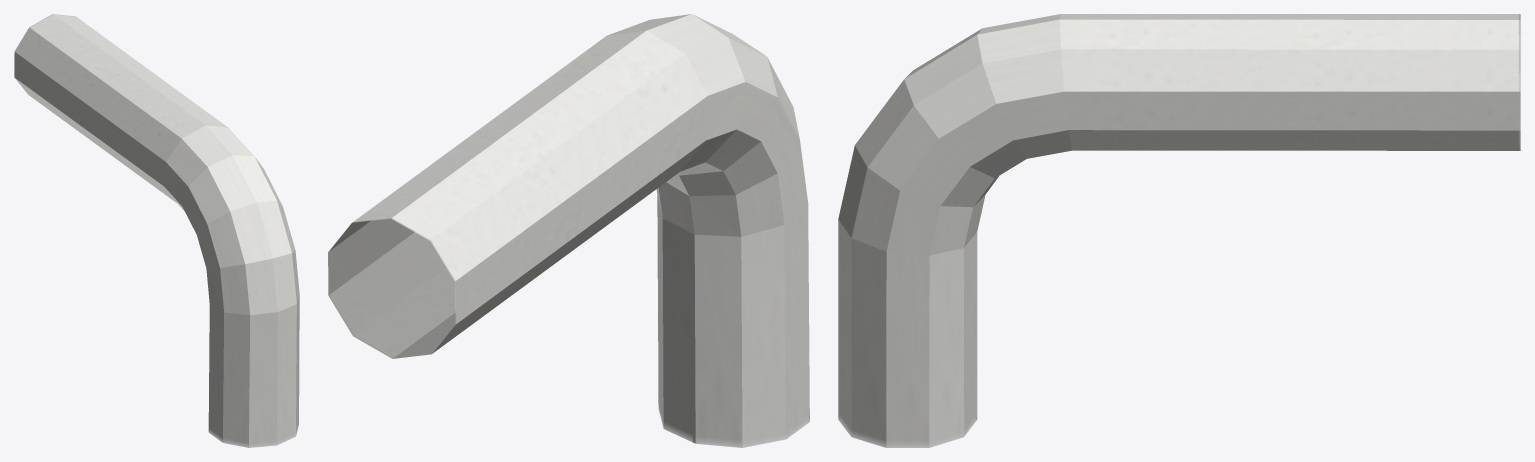
Rendered from pj-161-geode.glb.
The picture shows the model from 3 angles, left to right: view 1: azimuth 30°, elevation 25°; view 2: azimuth 150°, elevation 25°; view 3: azimuth 270°, elevation 25°; orthographic projection. The views are drawn at different scales.
Parts seen in each view (by area): view 1: Node; view 2: Node; view 3: Node.
Boxes of the visible parts, x1,y1,x2,y2 form: Node: [14, 14, 299, 447]; Node: [328, 14, 809, 447]; Node: [838, 14, 1520, 447].
Bounding box in the file's own units: 0.0466 × 0.1526 × 0.2349.
1 material, 1 textured.
